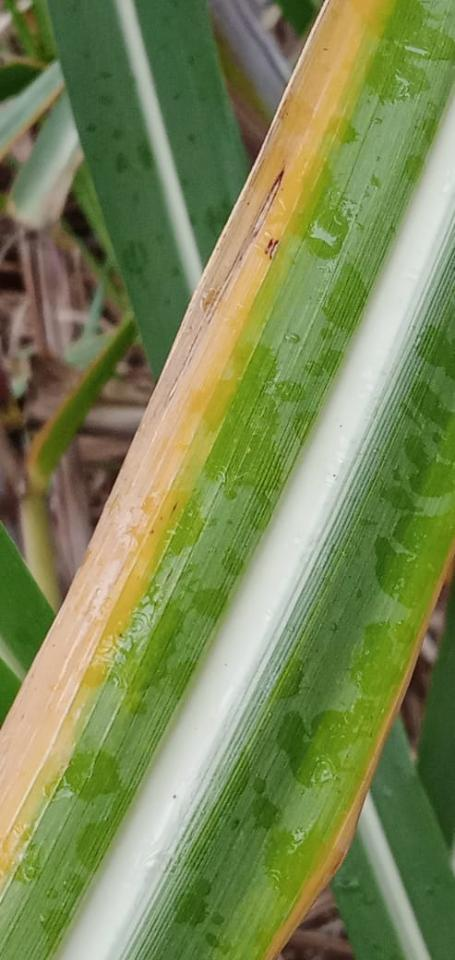RedRot: (237, 170, 285, 261)
Rust: (269, 239, 280, 260), (264, 238, 274, 255)
Yellow: (0, 0, 378, 845), (262, 537, 454, 959)
